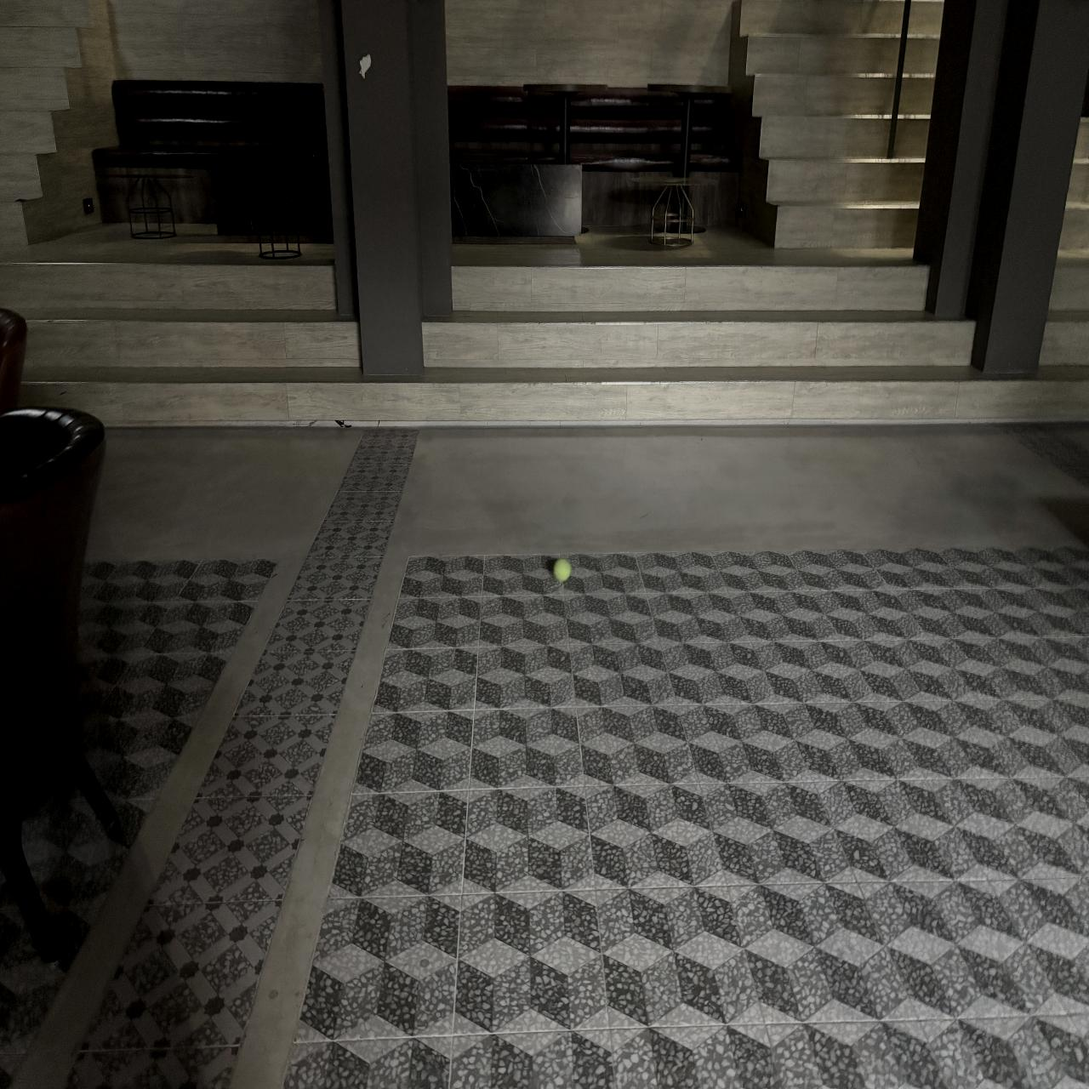tennisball: (553, 559, 572, 582)
